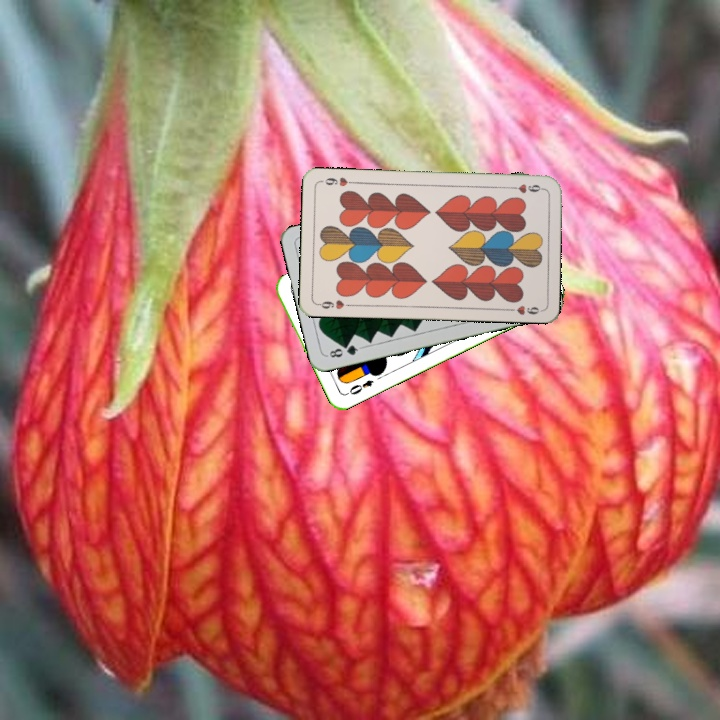EO: (342, 376, 377, 398)
G8: (323, 340, 363, 360)
H9: (314, 296, 354, 312), (506, 180, 546, 195)
